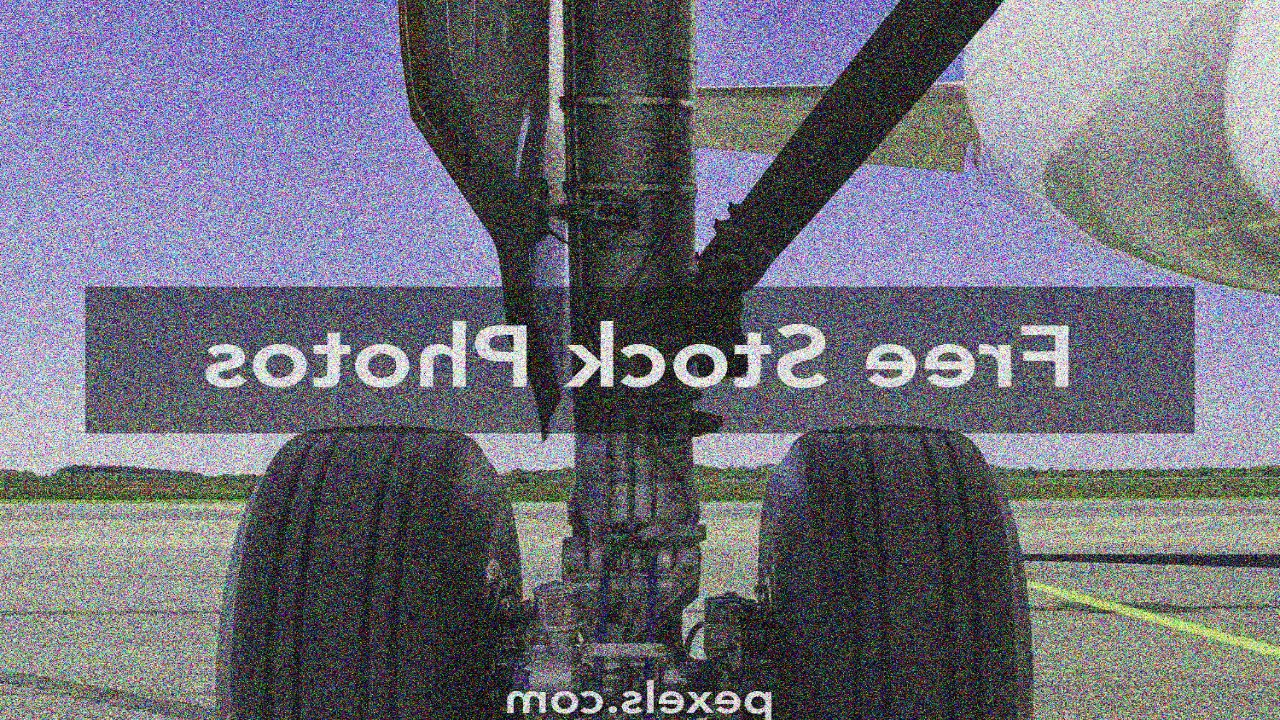wheel: (215, 426, 516, 716), (759, 426, 1038, 718)
